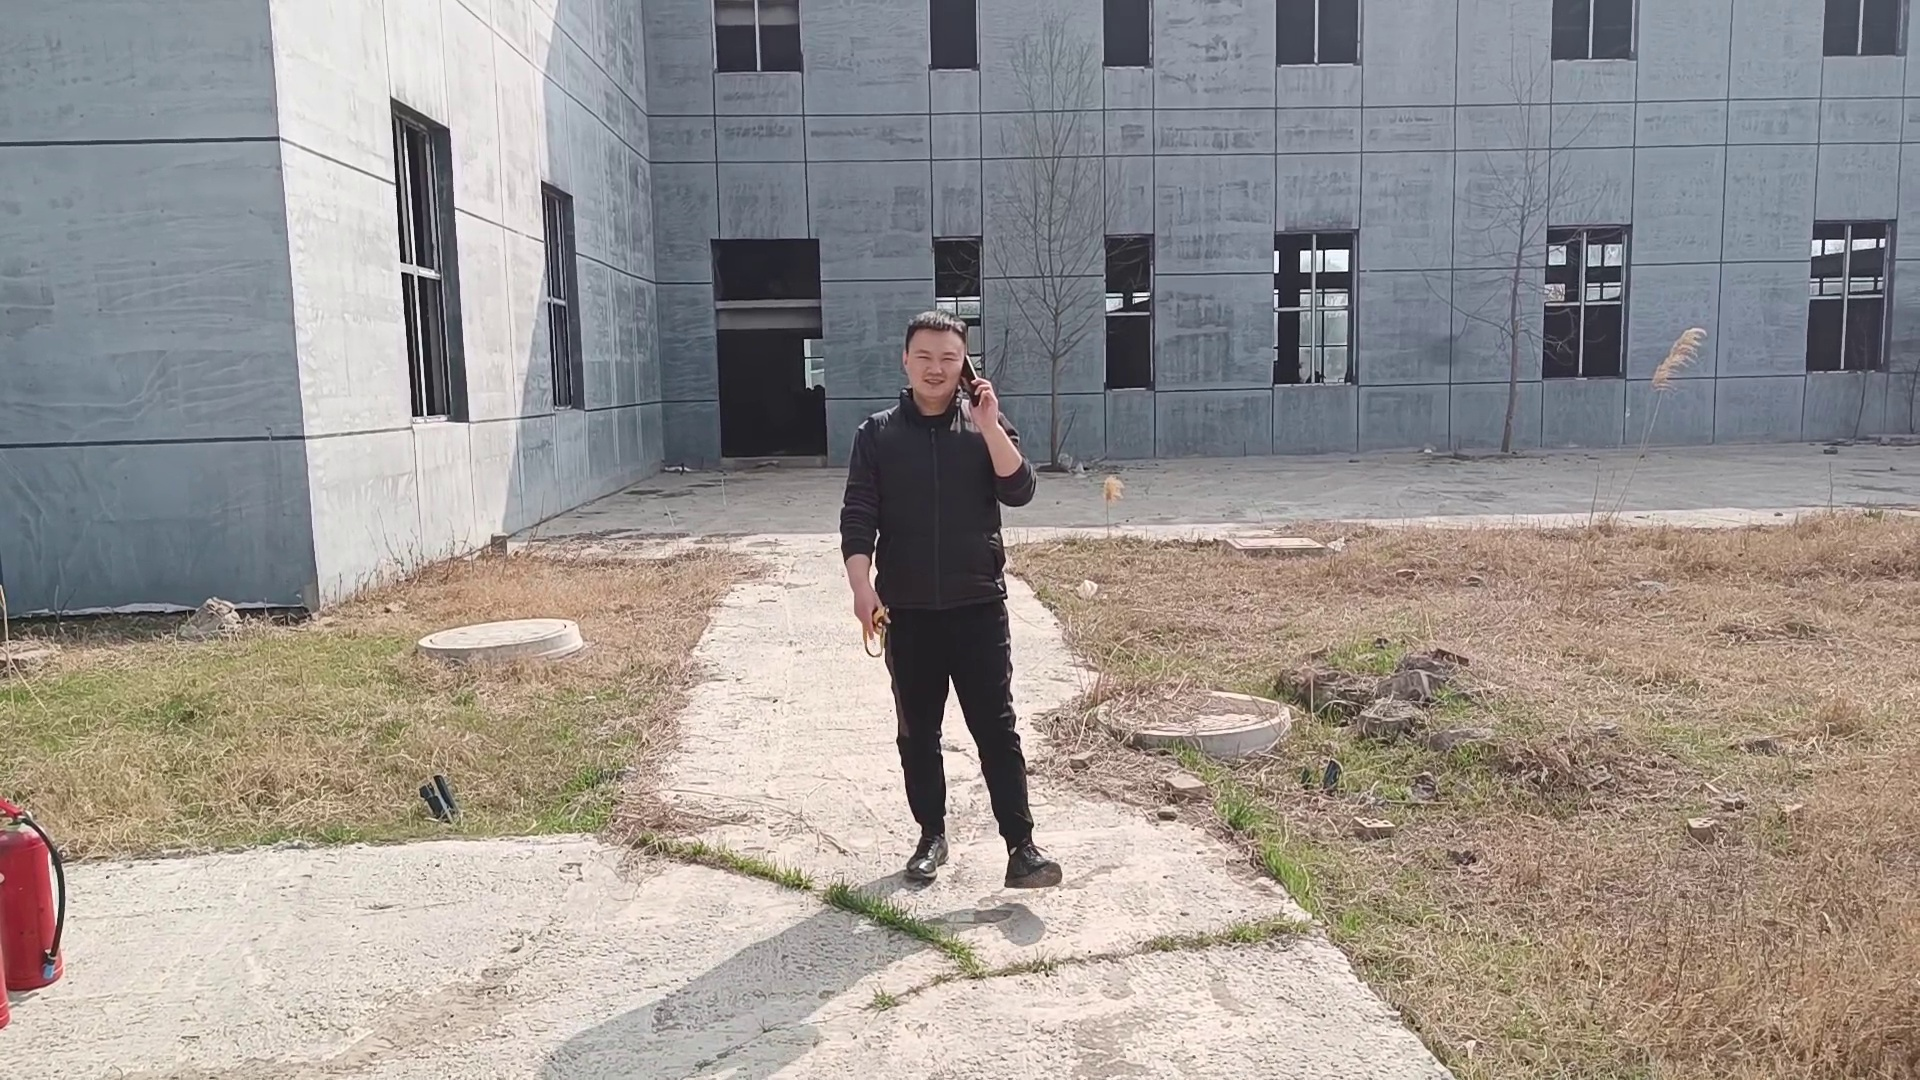phone: (899, 311, 985, 417)
